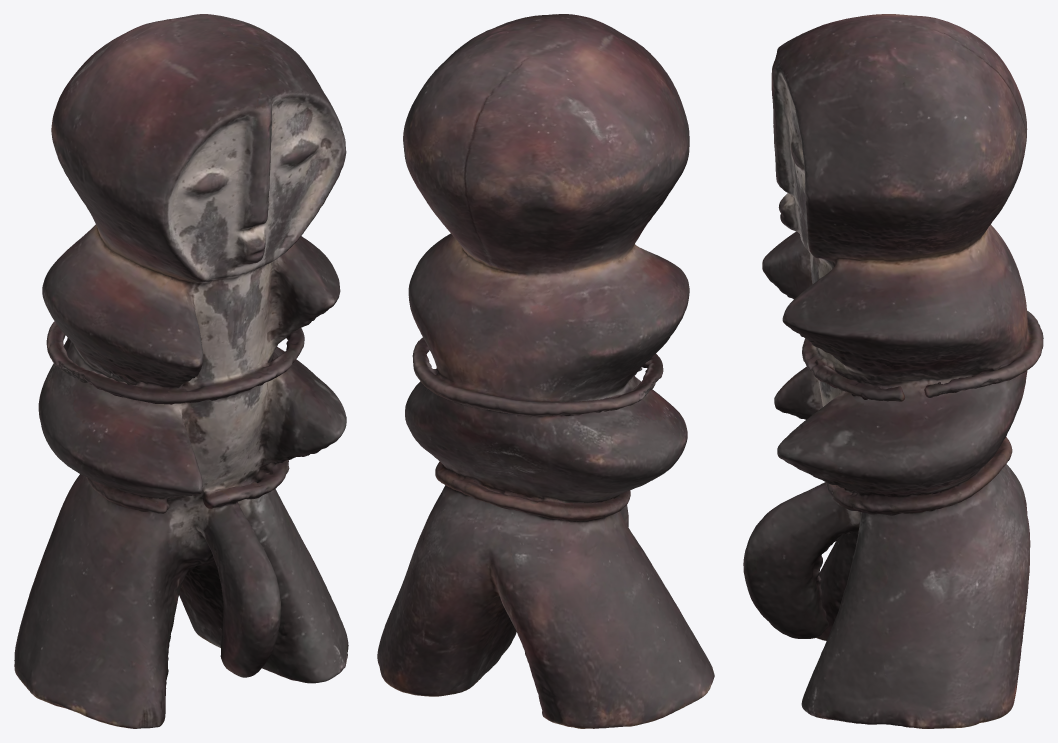
File: preview.glb
3 renders of one model, left to right at view 1: azimuth 30°, elevation 25°; view 2: azimuth 150°, elevation 25°; view 3: azimuth 270°, elevation 25°, orthographic.
Visible parts, largest first — view 1: Object_2; view 2: Object_2; view 3: Object_2.
Boxes of the visible parts, x1,y1,x2,y2 form: Object_2: (14, 14, 348, 728); Object_2: (377, 14, 714, 728); Object_2: (743, 14, 1043, 728).
Bounding box in the file's own units: 0.4966 × 1.01 × 0.4232.
Materials: 1 (1 with a texture image).
